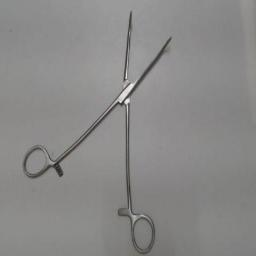Lahey Forceps: (16, 6, 178, 254)
